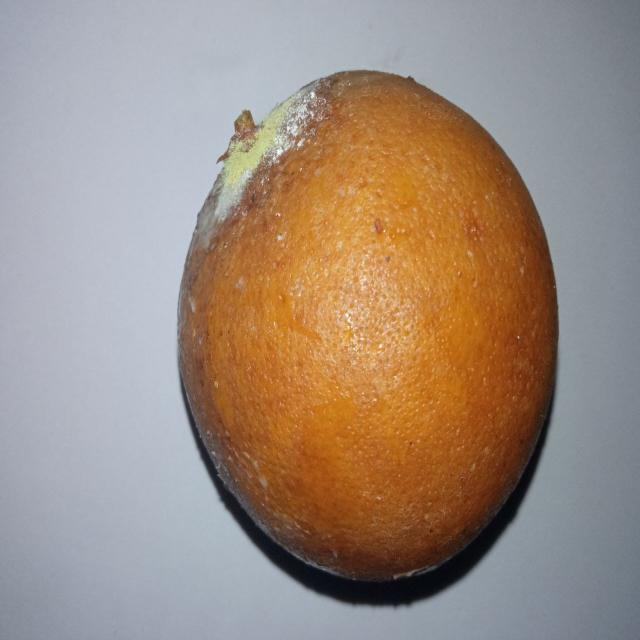rotten_orange: (174, 71, 556, 582)
